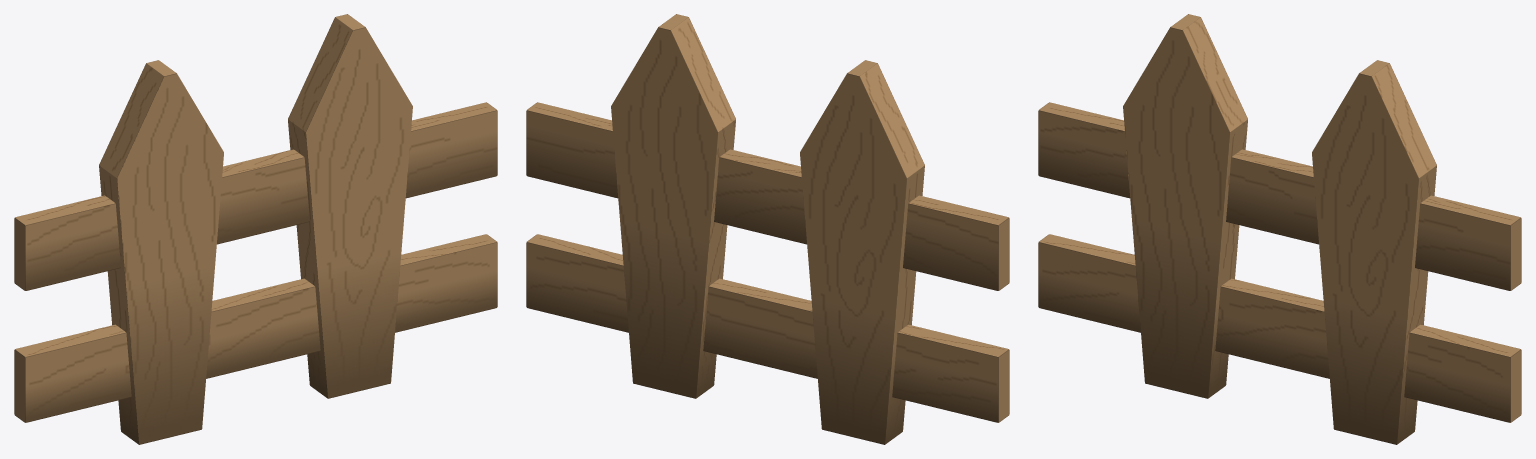
Rendered from Garden Fence.fbx.
The picture shows the model from 3 angles, left to right: view 1: azimuth 30°, elevation 25°; view 2: azimuth 150°, elevation 25°; view 3: azimuth 330°, elevation 25°; orthographic projection.
Parts seen in each view (by area): view 1: cuboid; view 2: cuboid; view 3: cuboid.
Boxes of the visible parts, <box> form: cuboid: <box>14,14,497,444</box>; cuboid: <box>526,14,1009,444</box>; cuboid: <box>1038,14,1521,444</box>.
Size of the model in its own units: 93.75 by 68.75 by 6.25.
1 material, 1 textured.
